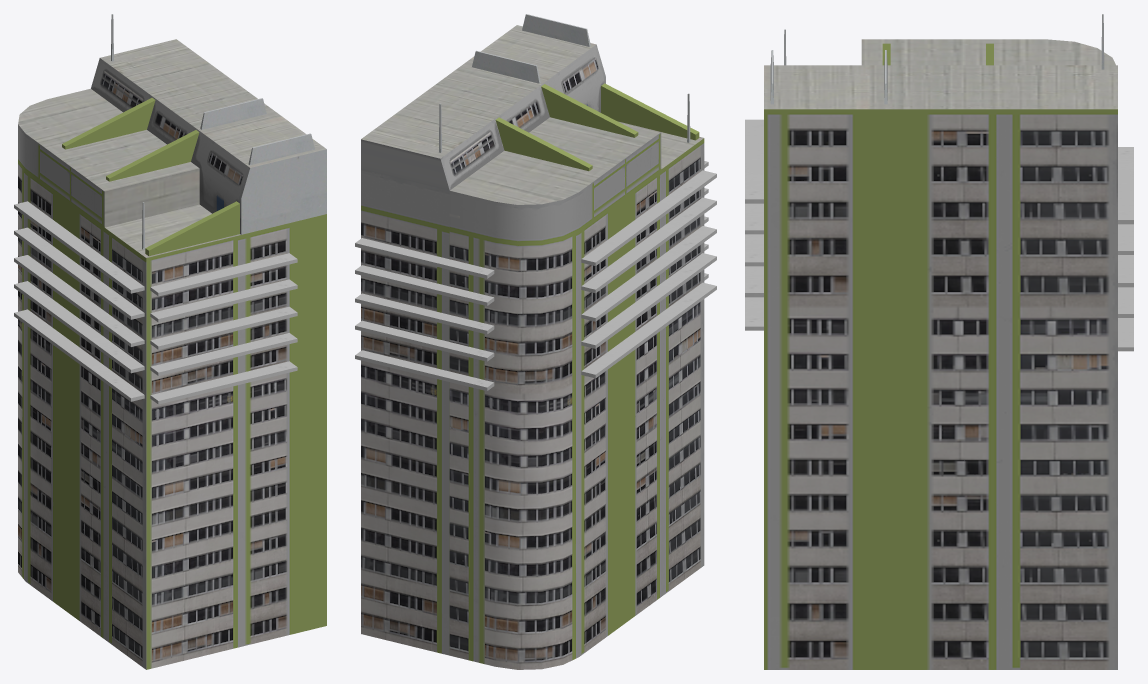
Rendered from MB_Skyscraper_07.fbx.
The picture shows the model from 3 angles, left to right: view 1: azimuth 30°, elevation 25°; view 2: azimuth 150°, elevation 25°; view 3: azimuth 270°, elevation 25°; orthographic projection. The views are drawn at different scales.
Visible parts, largest first — view 1: MB_Skyscraper_07; view 2: MB_Skyscraper_07; view 3: MB_Skyscraper_07.
Boxes of the visible parts, x1,y1,x2,y2 form: MB_Skyscraper_07: (14,14,326,669); MB_Skyscraper_07: (355,14,716,669); MB_Skyscraper_07: (745,14,1133,669).
Bounding box in the file's own units: 1203 × 3096 × 1773.
